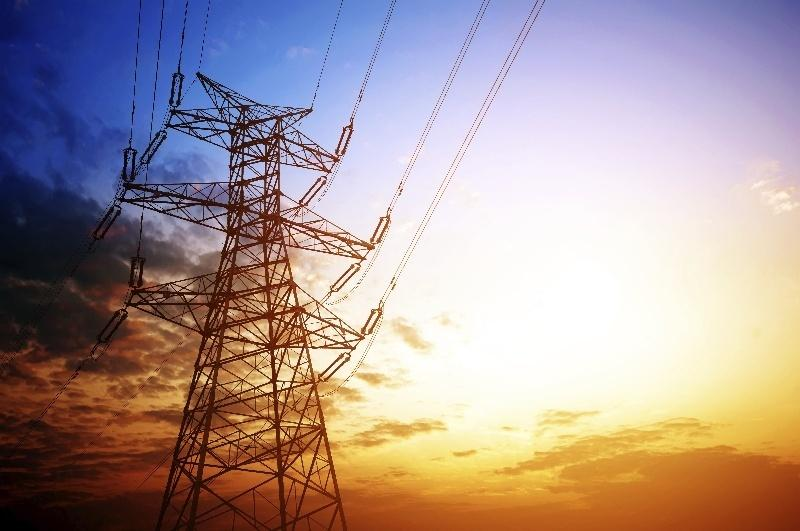power_tower: (104, 64, 383, 524)
